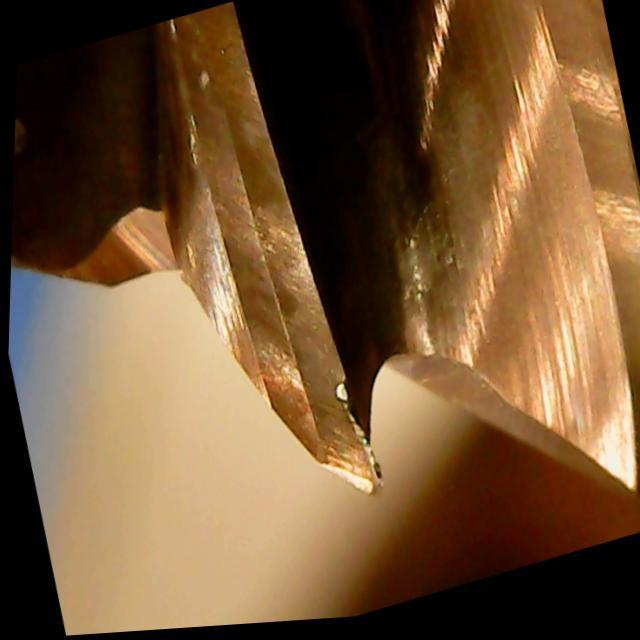Tool-wear-class-1: (226, 219, 402, 528)
